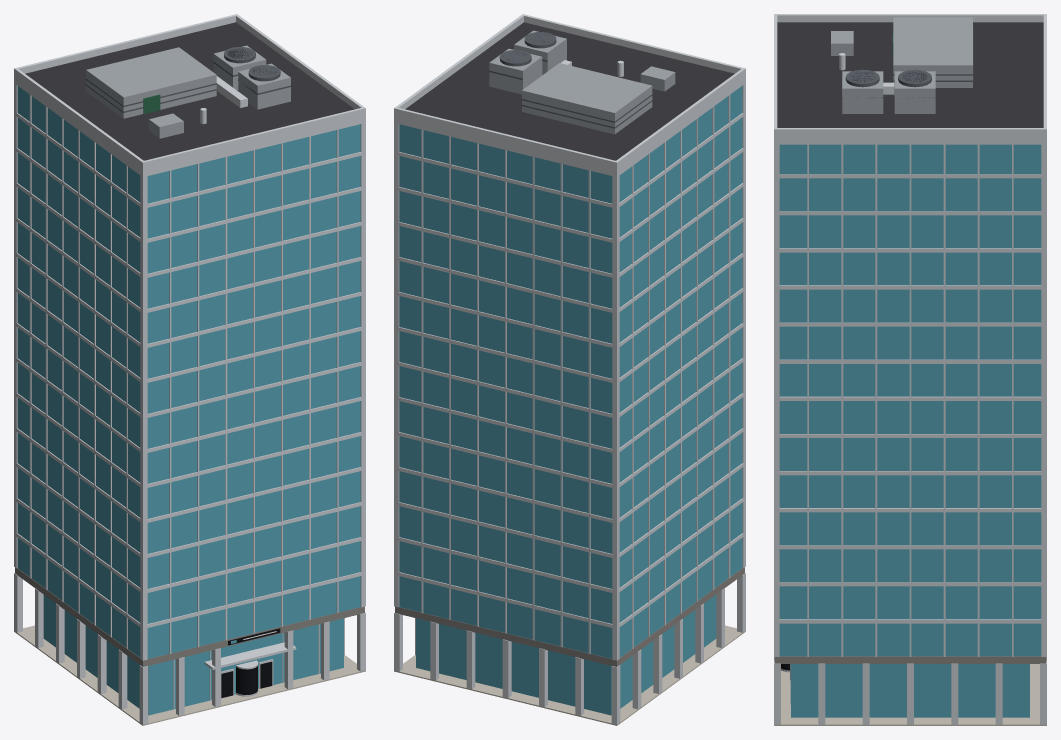
The model's file is building_office.glb.
The picture shows the model from 3 angles, left to right: view 1: azimuth 30°, elevation 25°; view 2: azimuth 150°, elevation 25°; view 3: azimuth 270°, elevation 25°; orthographic projection. The views are drawn at different scales.
Visible parts, largest first — view 1: body; view 2: body; view 3: body.
Boxes of the visible parts, left/top/right/bottom form: body: left=14, top=14, right=365, bottom=725; body: left=394, top=14, right=745, bottom=725; body: left=774, top=14, right=1046, bottom=725.
Bounding box in the file's own units: 2400 × 6000 × 2400.
